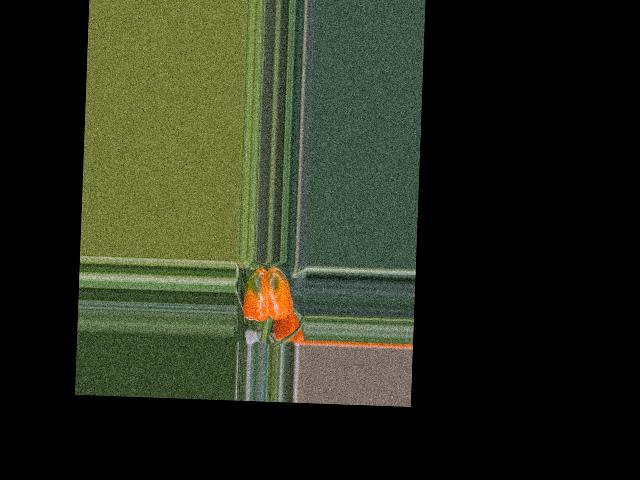bell_pepper: (235, 261, 296, 328)
